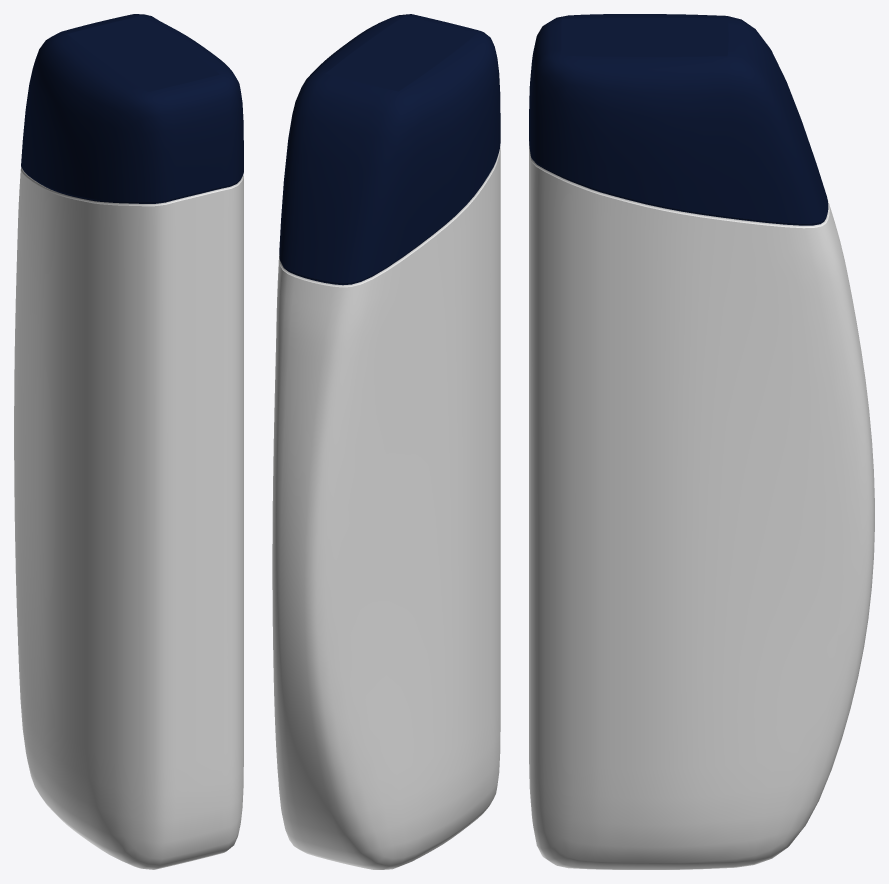
Rendered from Head&Shoulder1.fbx.
3 renders of one model, left to right at view 1: azimuth 30°, elevation 25°; view 2: azimuth 150°, elevation 25°; view 3: azimuth 270°, elevation 25°, orthographic. The views are drawn at different scales.
Parts seen in each view (by area): view 1: Прямоугольник01; view 2: Прямоугольник01; view 3: Прямоугольник01.
Boxes of the visible parts, x1,y1,x2,y2 form: Прямоугольник01: (14,14,243,869); Прямоугольник01: (272,14,500,869); Прямоугольник01: (529,14,874,869).
Bounding box in the file's own units: 33.79 × 165 × 63.94.
